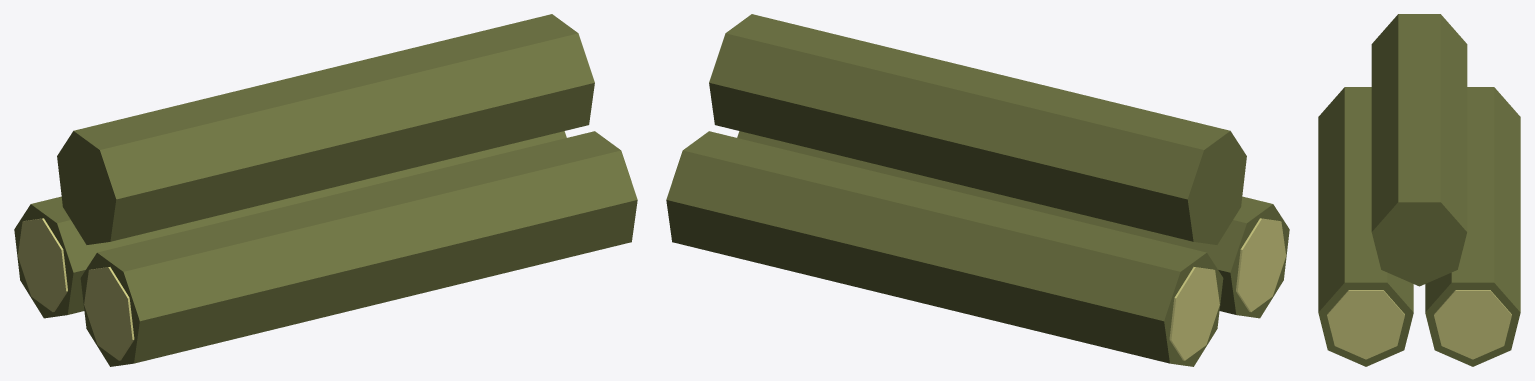
Rendered from drop_logs_willow.glb.
3 renders of one model, left to right at view 1: azimuth 30°, elevation 25°; view 2: azimuth 150°, elevation 25°; view 3: azimuth 270°, elevation 25°, orthographic. The views are drawn at different scales.
Parts seen in each view (by area): view 1: drop_logs_willow; view 2: drop_logs_willow; view 3: drop_logs_willow.
Part boxes in pixels (x1,y1,x2,y2): drop_logs_willow: (14,14,637,366); drop_logs_willow: (666,14,1289,366); drop_logs_willow: (1318,14,1520,366).
Size of the model in its own units: 0.524 by 0.1996 by 0.2272.
